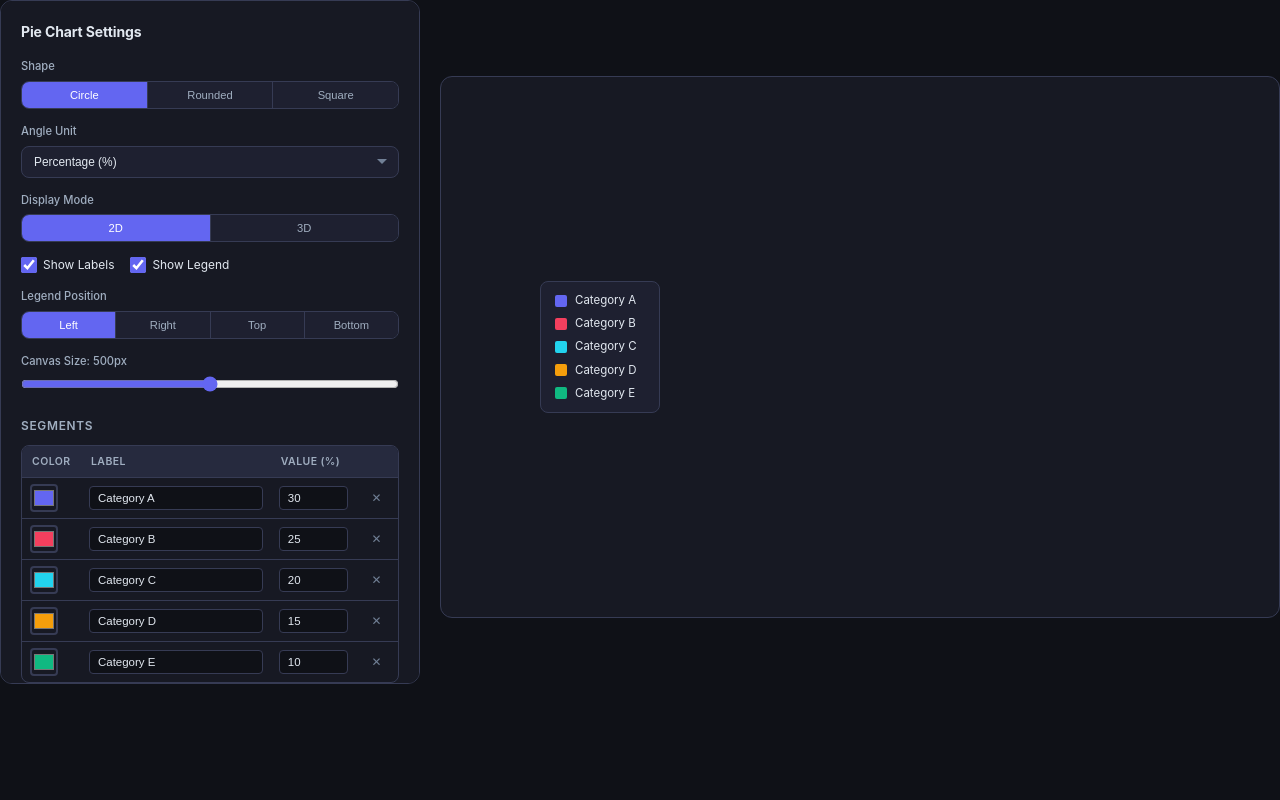
Test: PieCreator › resets orientation controls to defaults
Click the button "3D". click: (304, 228)
box: [210,215,398,241]
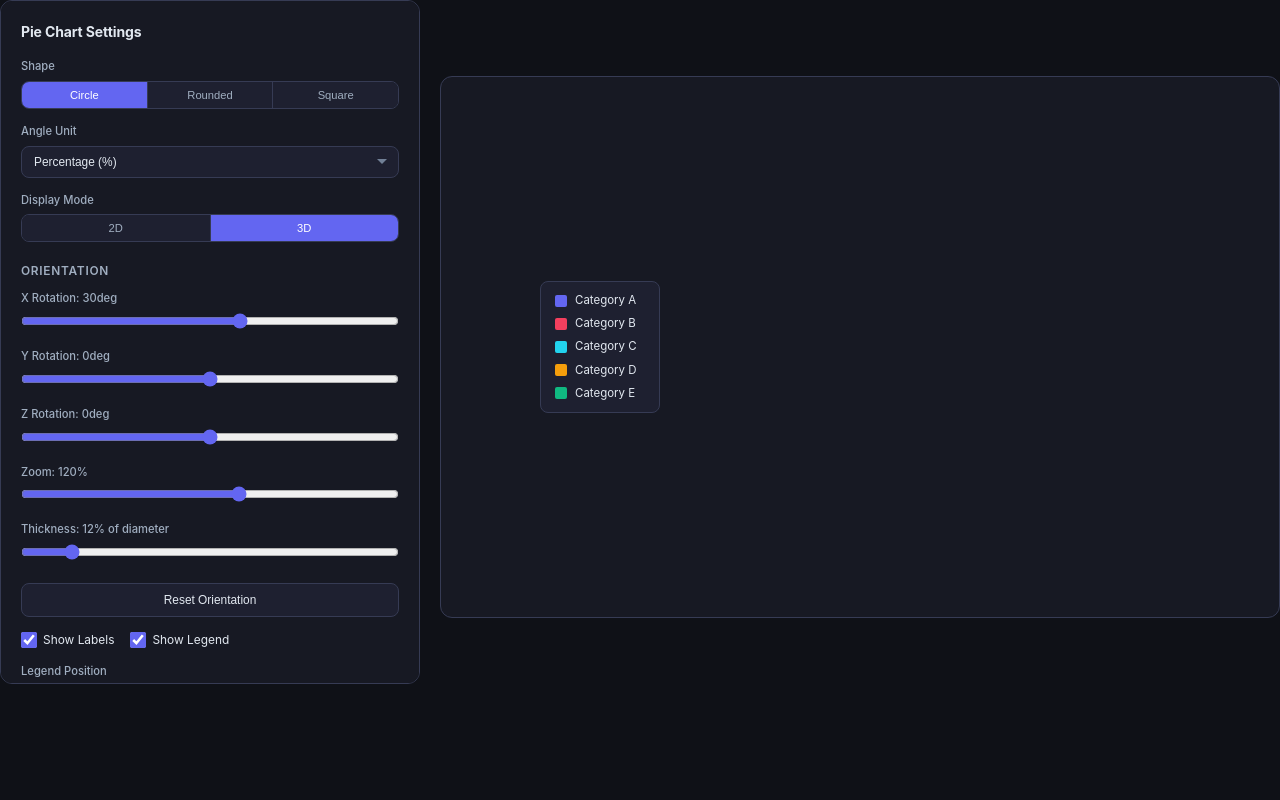
Set the slider named "X Rotation" to "12". click: (222, 321)
box: [21,313,399,329]
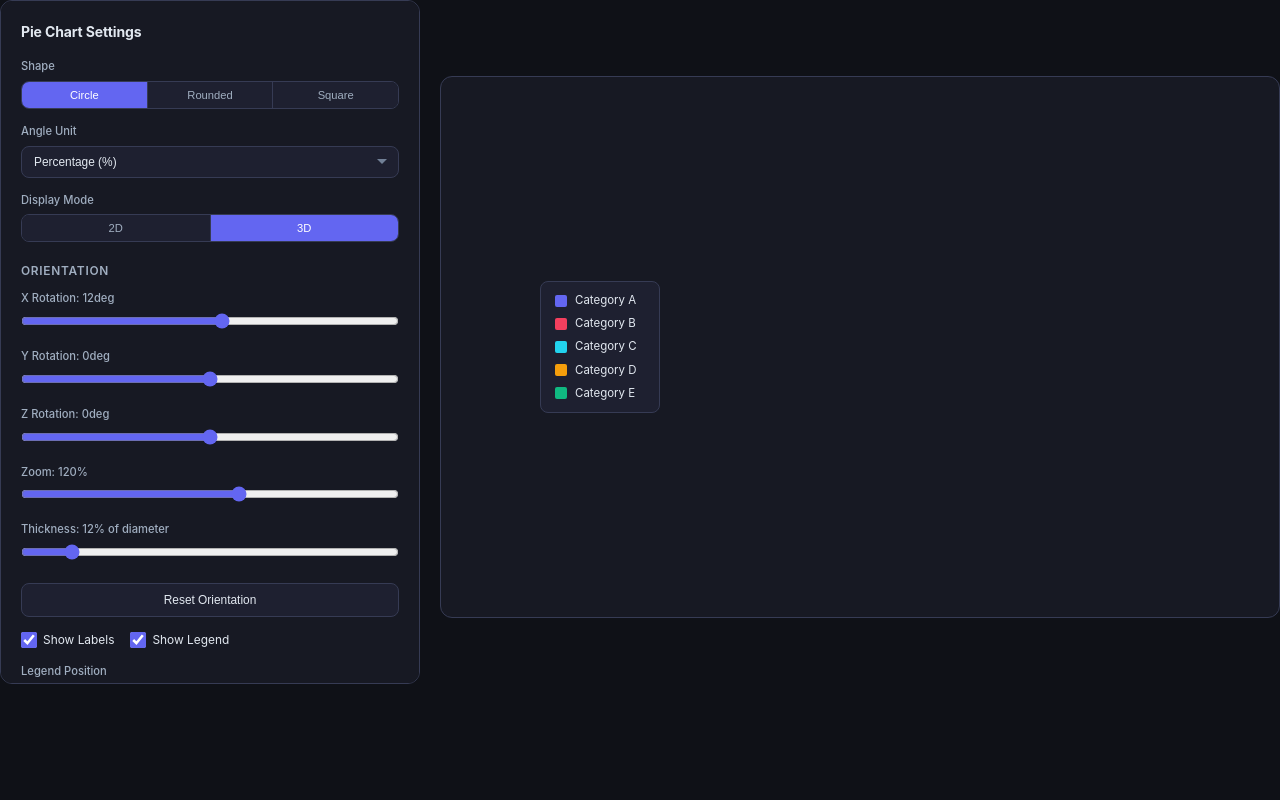
Click the button "Reset Orientation". click: (210, 600)
box: [21,583,399,617]
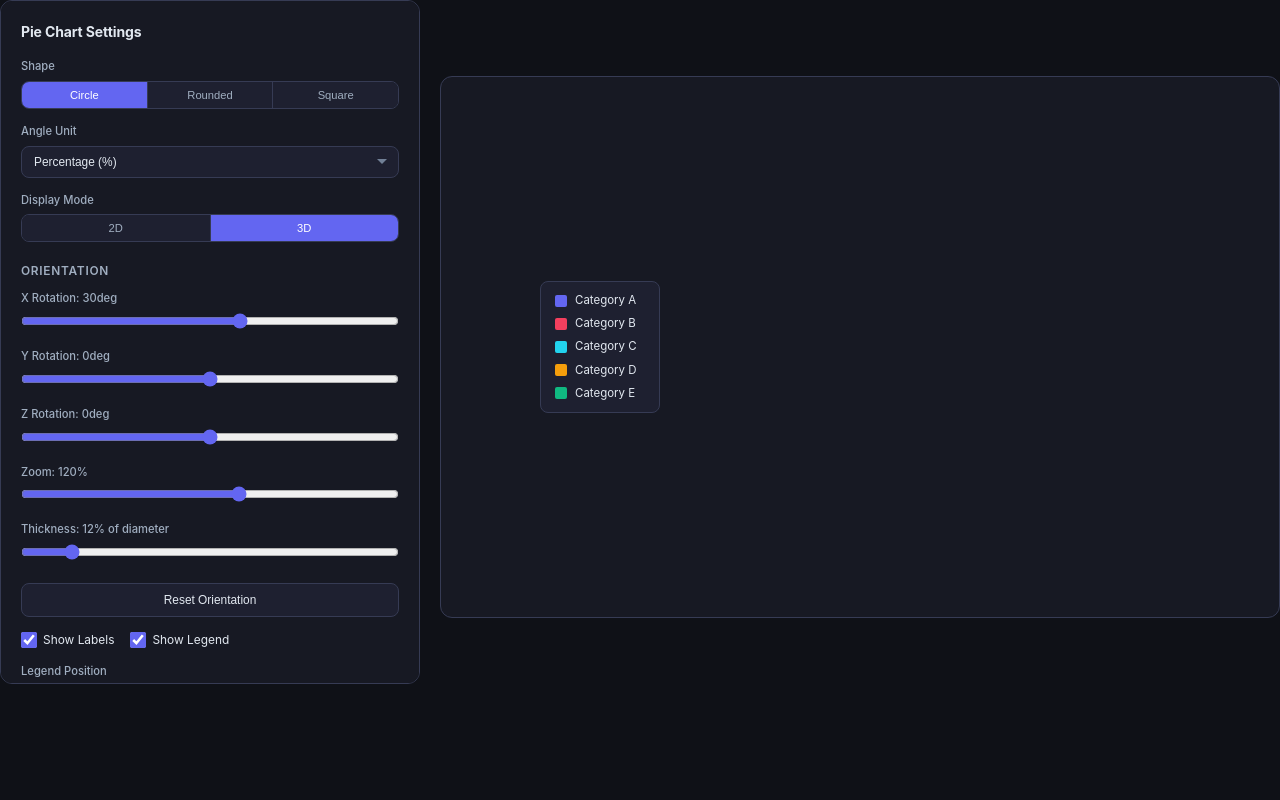
Now the slider named "X Rotation" holds "30", box [21,313,399,329]
